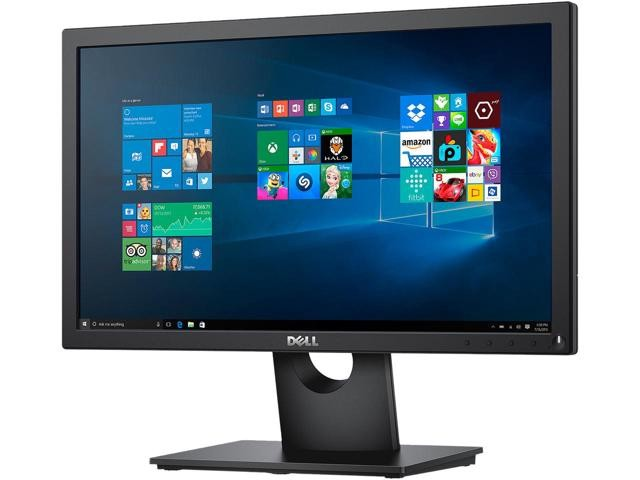dell-monitor-D1918H: (56, 1, 582, 477)
